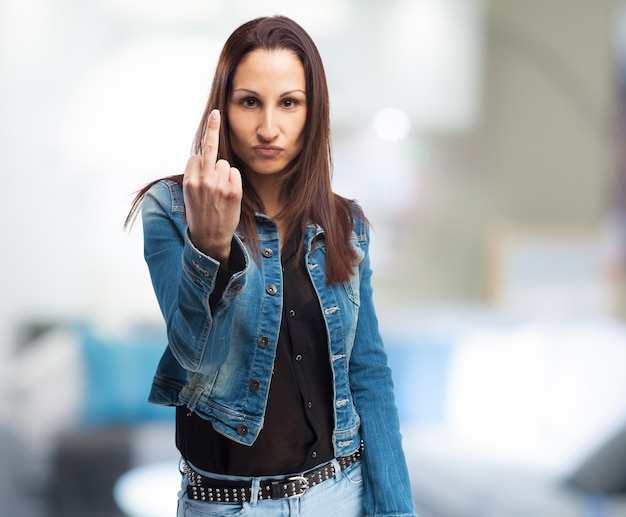insulting_gesture: (182, 107, 244, 253)
